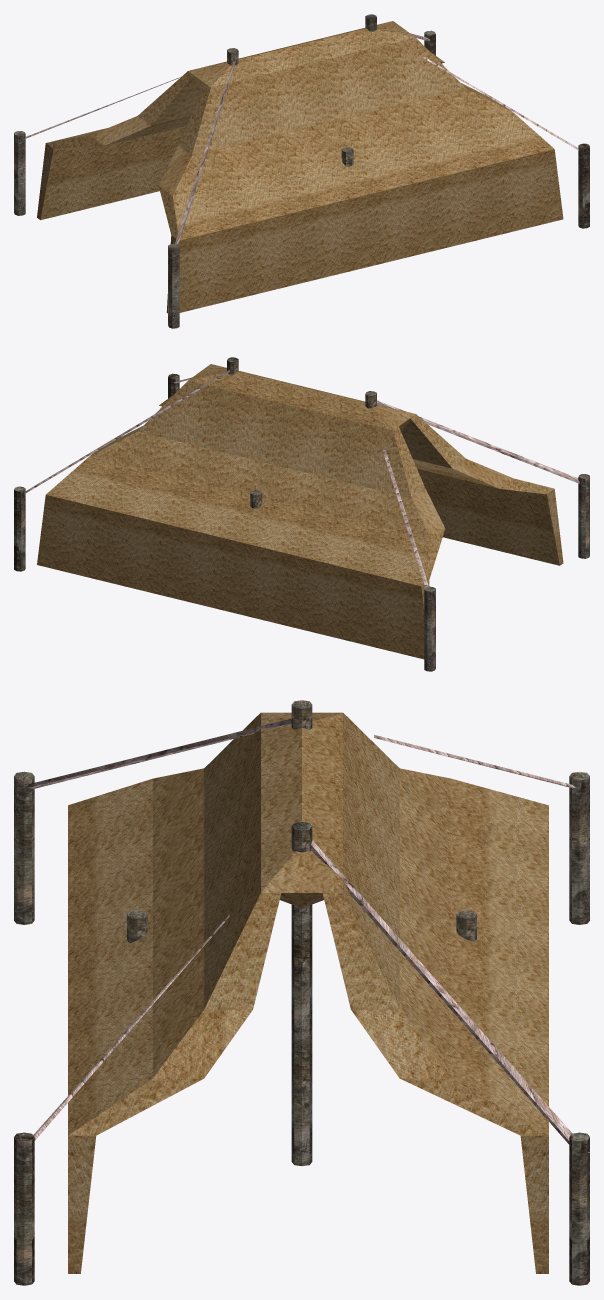
The model's file is architecture_tent1.glb.
3 renders of one model, top to bottom at view 1: azimuth 30°, elevation 25°; view 2: azimuth 150°, elevation 25°; view 3: azimuth 270°, elevation 25°, orthographic. The views are drawn at different scales.
Parts seen in each view (by area): view 1: tent1; view 2: tent1; view 3: tent1.
Part boxes in pixels (box(x1,y1,x2,y2)): tent1: box(14, 14, 589, 328); tent1: box(14, 357, 589, 671); tent1: box(14, 700, 589, 1285).
Size of the model in its own units: 10.62 by 4.5 by 7.
Materials: 3 (3 with a texture image).
